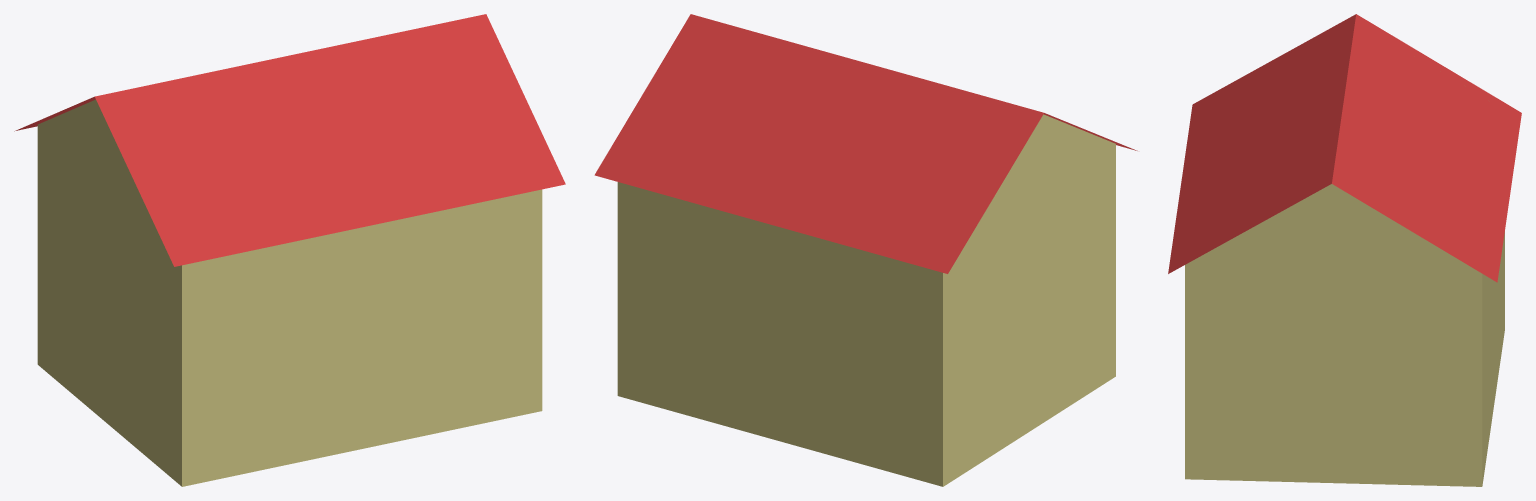
3 renders of one model, left to right at view 1: azimuth 30°, elevation 25°; view 2: azimuth 150°, elevation 25°; view 3: azimuth 270°, elevation 25°, orthographic. The views are drawn at different scales.
Bounding box in the file's own units: 13.09 × 10.98 × 10.48.
